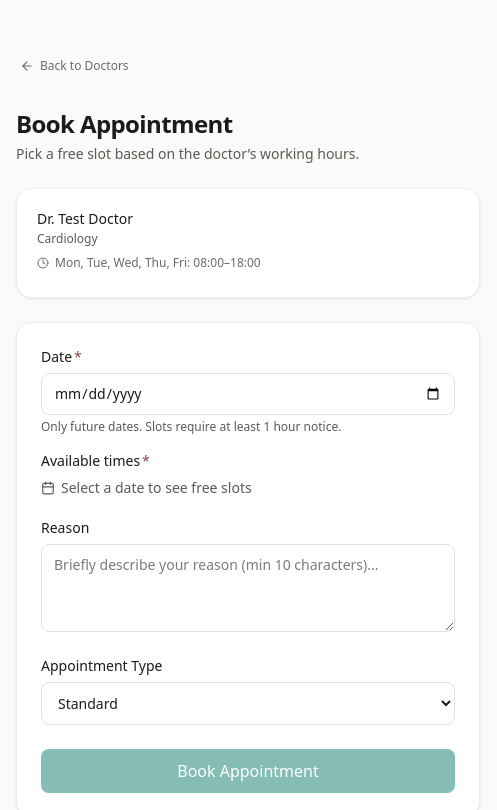
Test: BookAppointmentPage › rejects reason shorter than 10 characters
The width and height of the screenshot is (497, 810).
Expected: the text "Dr. Test Doctor" is shown, x1=37 y1=209 x2=133 y2=228
Type "2099-06-15" into the date field with id "appointmentDate" at x=248, y=394, box x1=41 y1=373 x2=455 y2=415
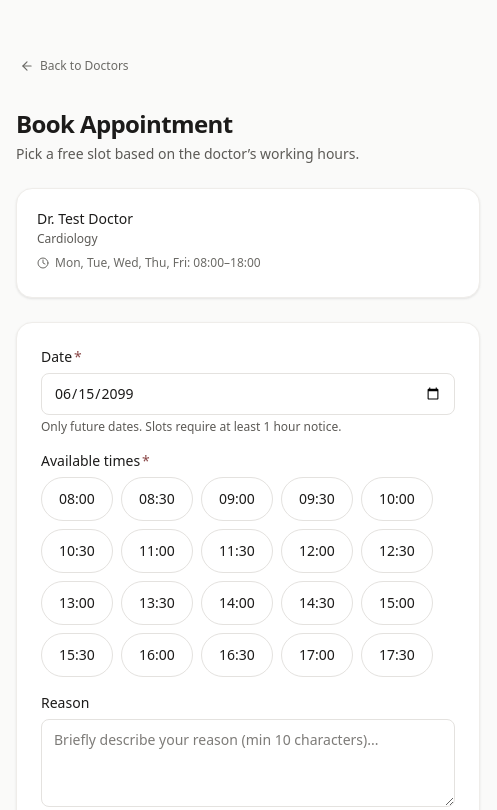
Click the option "10:00" at x=397, y=499, box x1=361 y1=477 x2=433 y2=521
(page scrolled)
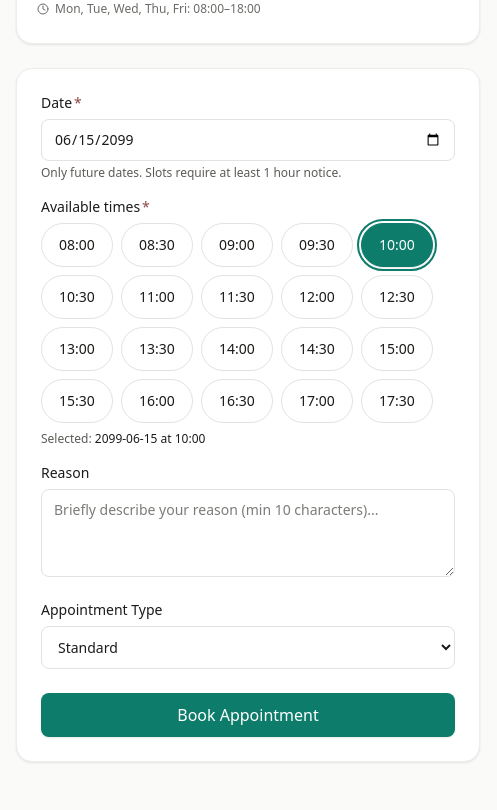
Type "Short" into the text box labelled "Reason" at x=248, y=533, box x1=41 y1=489 x2=455 y2=577
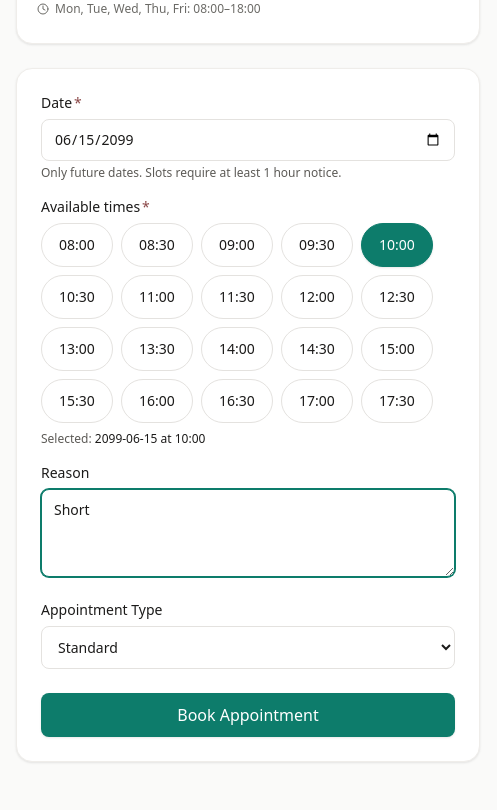
Submit the form
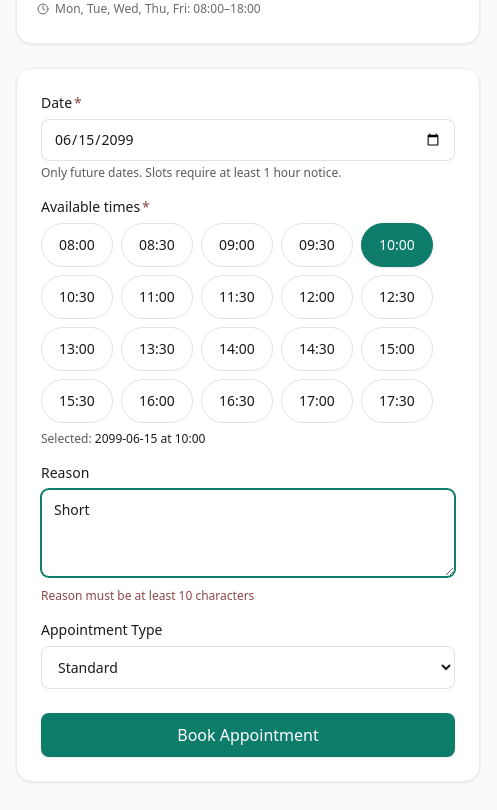
Expected: the text "Reason must be at least 10 characters" is shown, x1=41 y1=587 x2=254 y2=604
